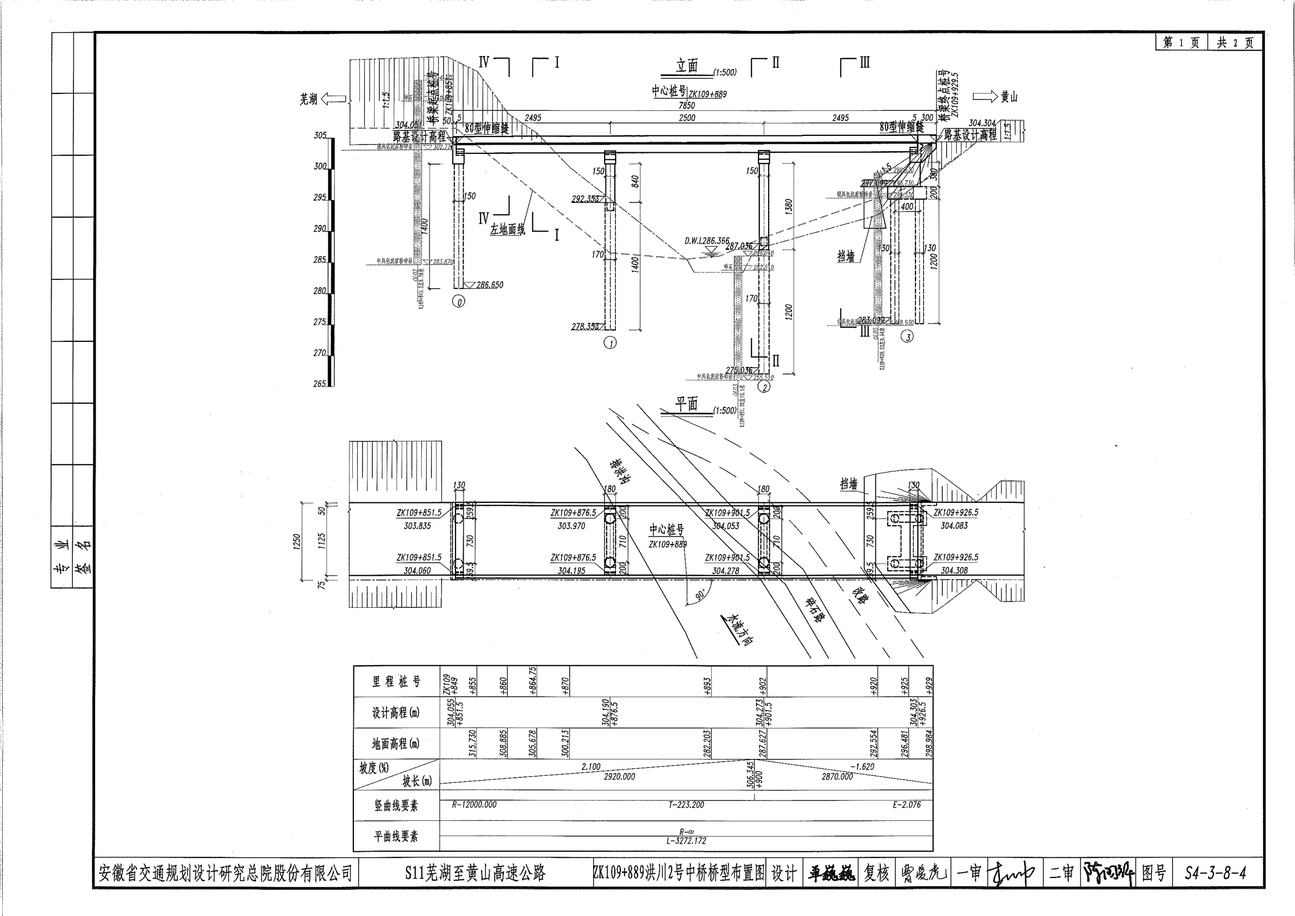A: (301, 37, 1041, 406)
